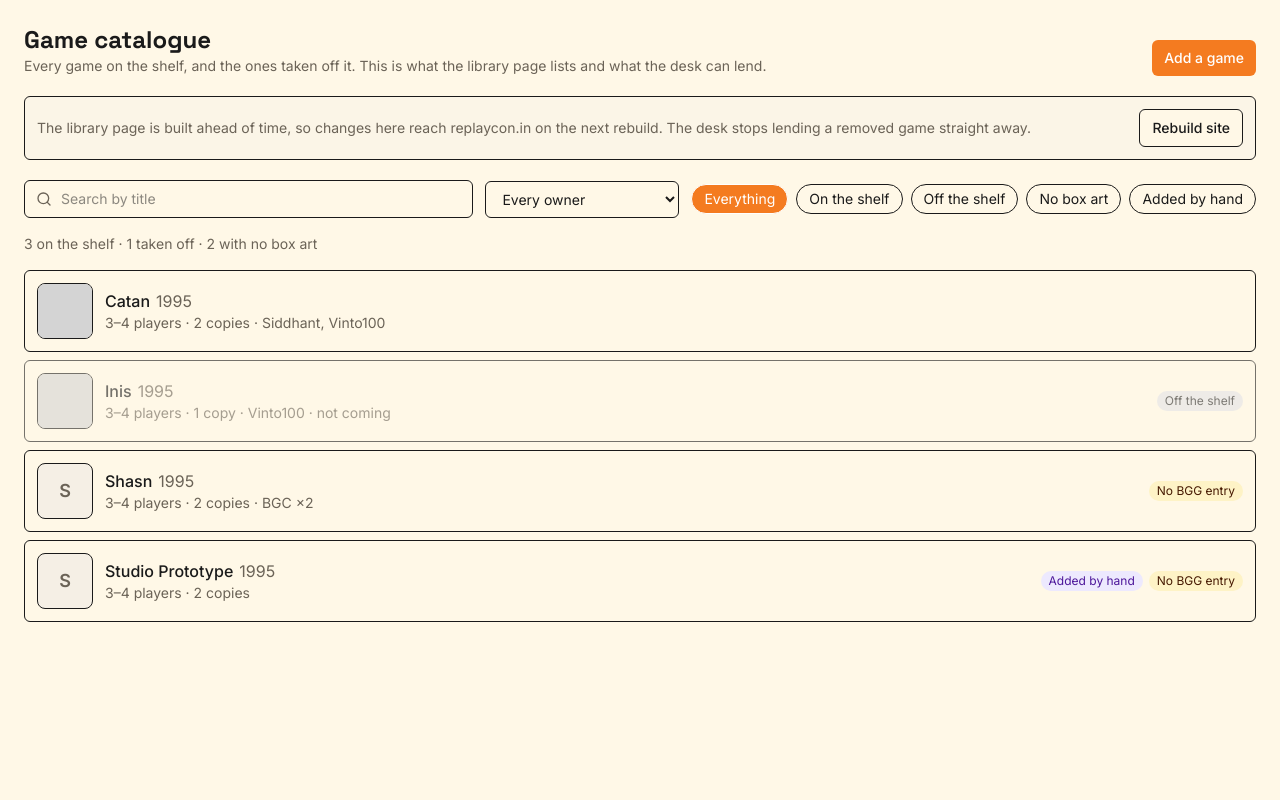
the catalogue list › counts each owner’s games in the picker, and the boxes behind a selection
Expected: the text "Catan" is shown, [105,291,150,311]
Select "BGC (1)" in the dropdown named "Filter by owner" at (582, 199), box [485,180,679,218]
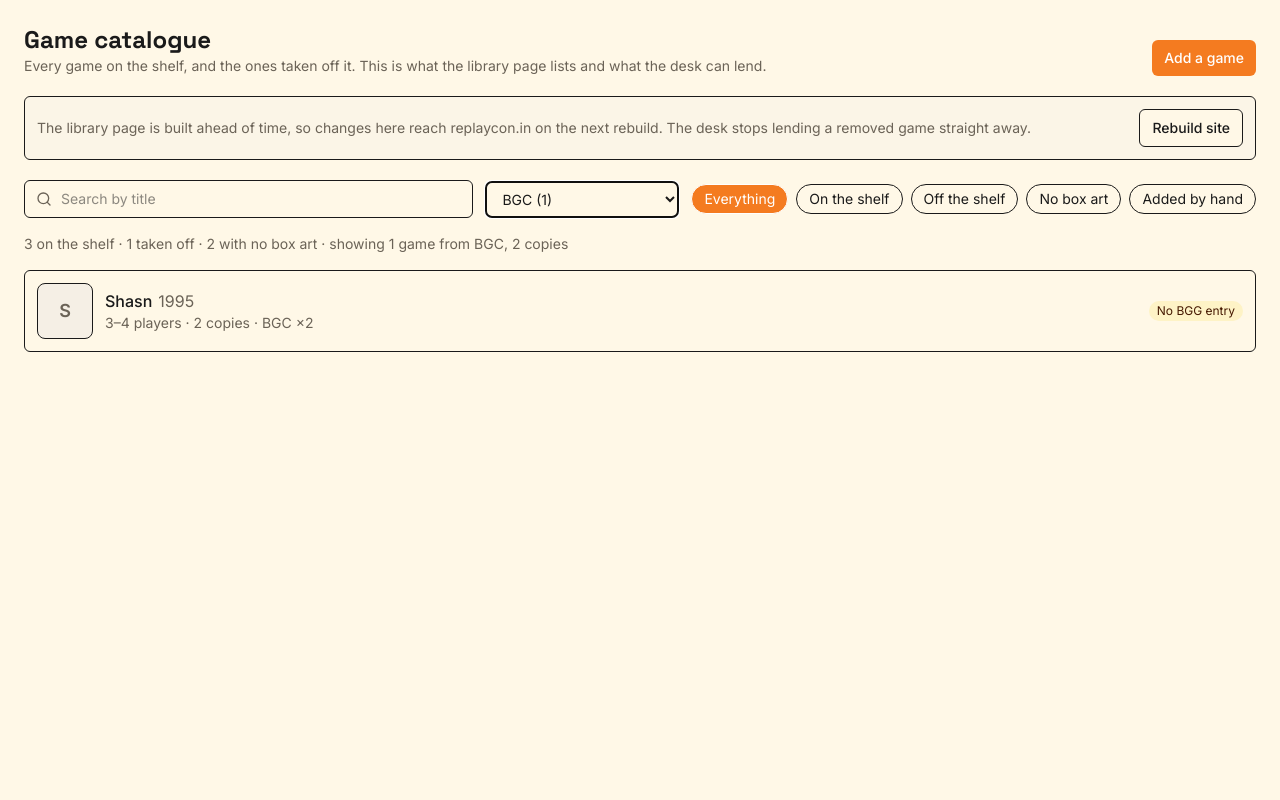
Expected: the text "showing 1 game from BGC, 2 copies" is shown, [24,235,568,252]
